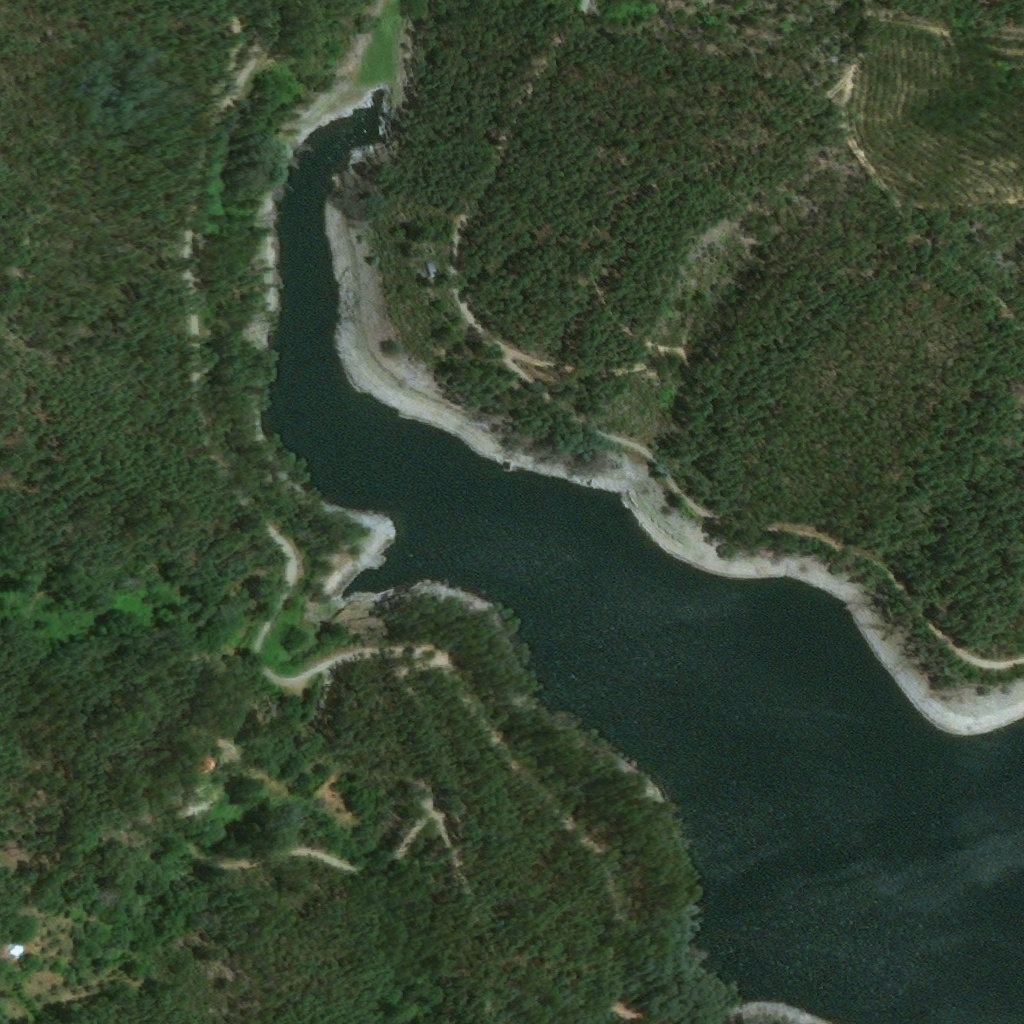0 no-damage: (5, 941, 24, 959)
